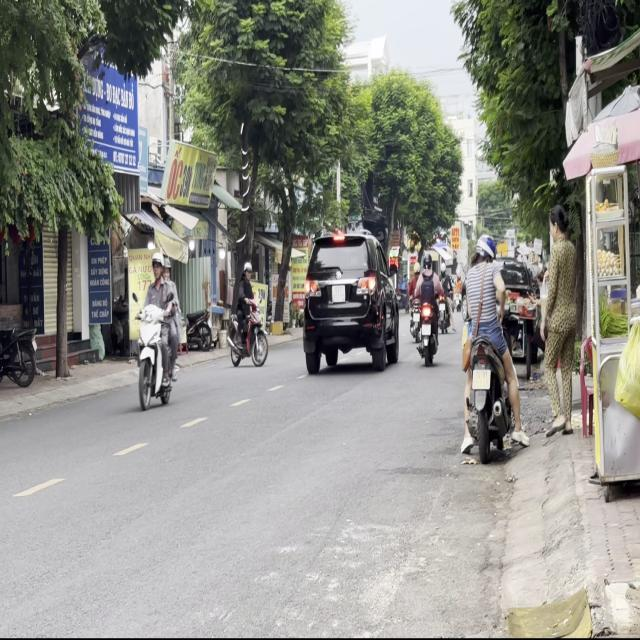helmet: (474, 233, 494, 262), (150, 252, 163, 282), (163, 258, 172, 282)
licenseplate: (457, 230, 523, 460), (132, 250, 180, 412)
nohelmet: (472, 369, 491, 389)
